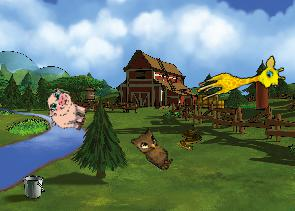giraffe: (193, 53, 288, 112)
owl: (127, 123, 181, 172)
pig: (41, 86, 92, 135)
